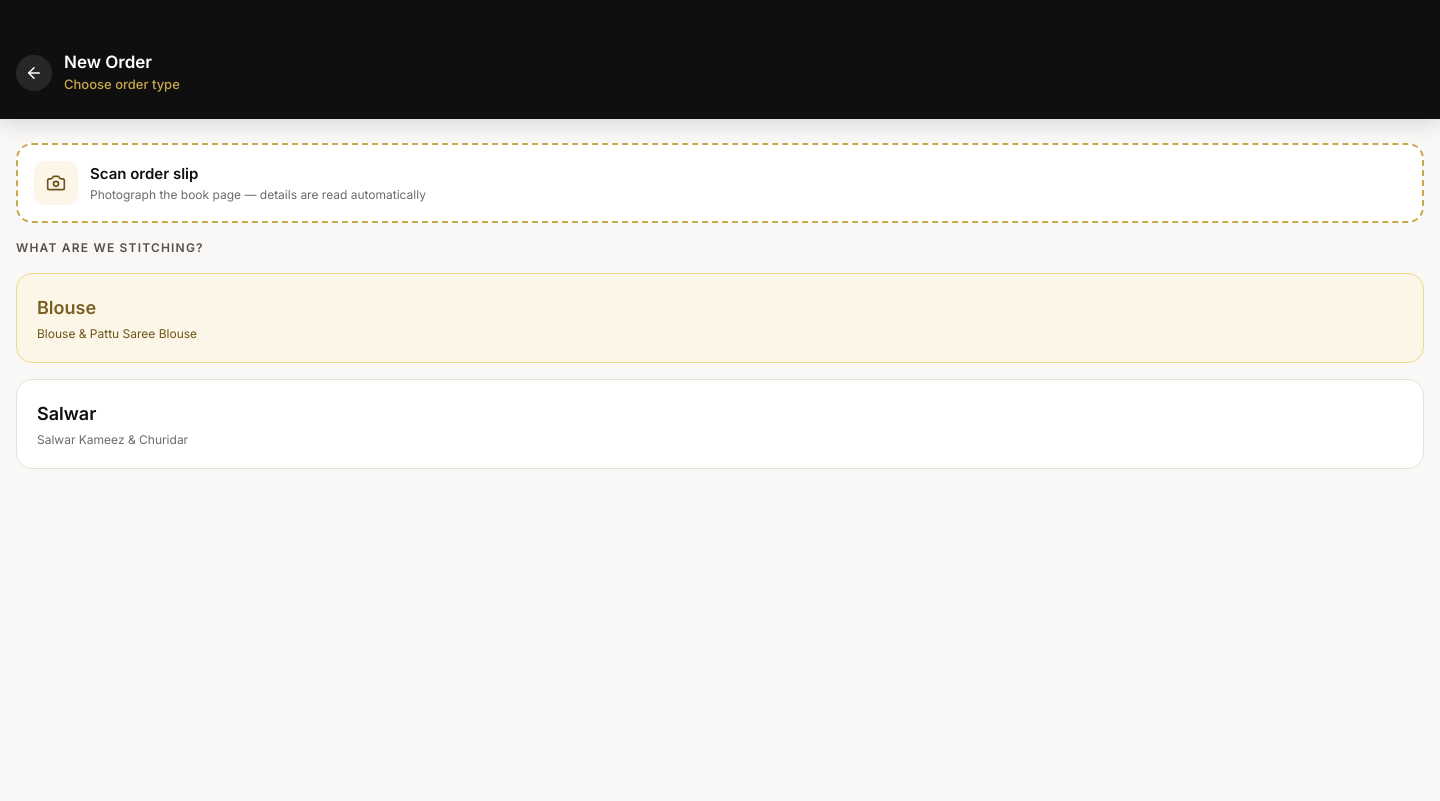
NewOrderWizard › switches to the shop fabric picker and computes fabric cost
This screenshot has width=1440, height=801.
Click the text "Blouse" at (67, 307), box x1=37 y1=297 x2=96 y2=318
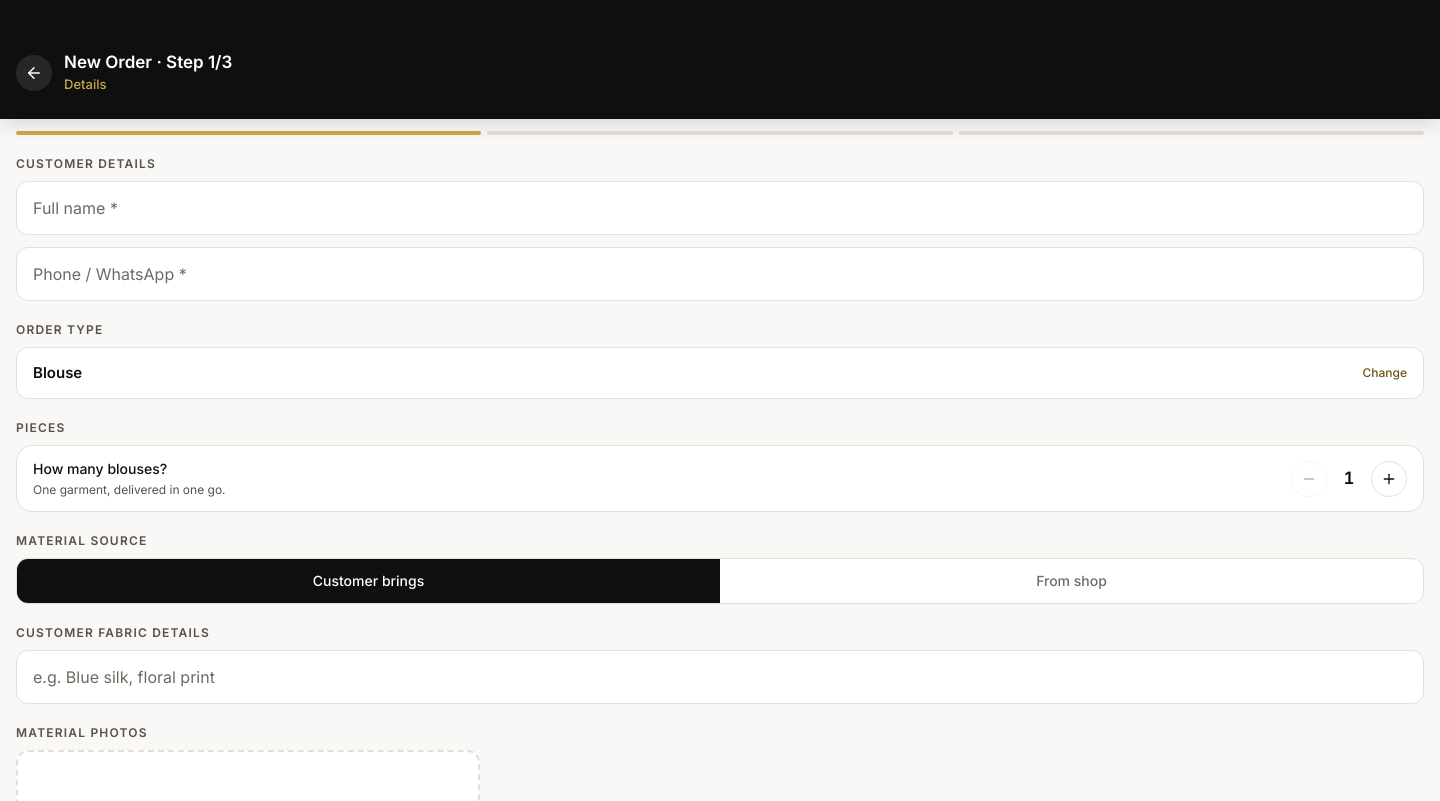
Click the button "From shop" at (1072, 581), box x1=720 y1=559 x2=1423 y2=603
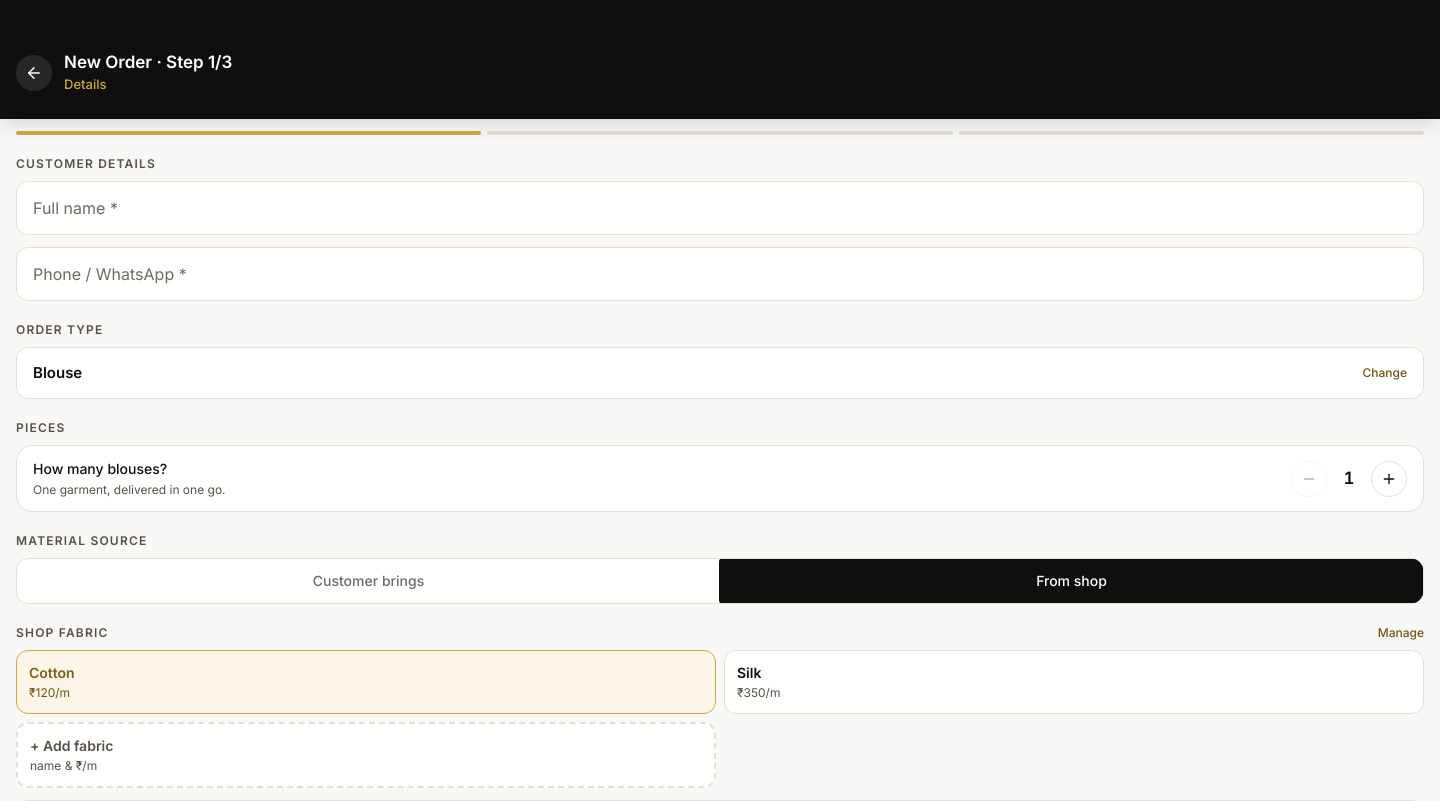
Result: the text "Shop fabric" is shown at x1=16 y1=624 x2=108 y2=642
Click the text "Silk" at (749, 673), box x1=737 y1=664 x2=761 y2=681
(page scrolled)
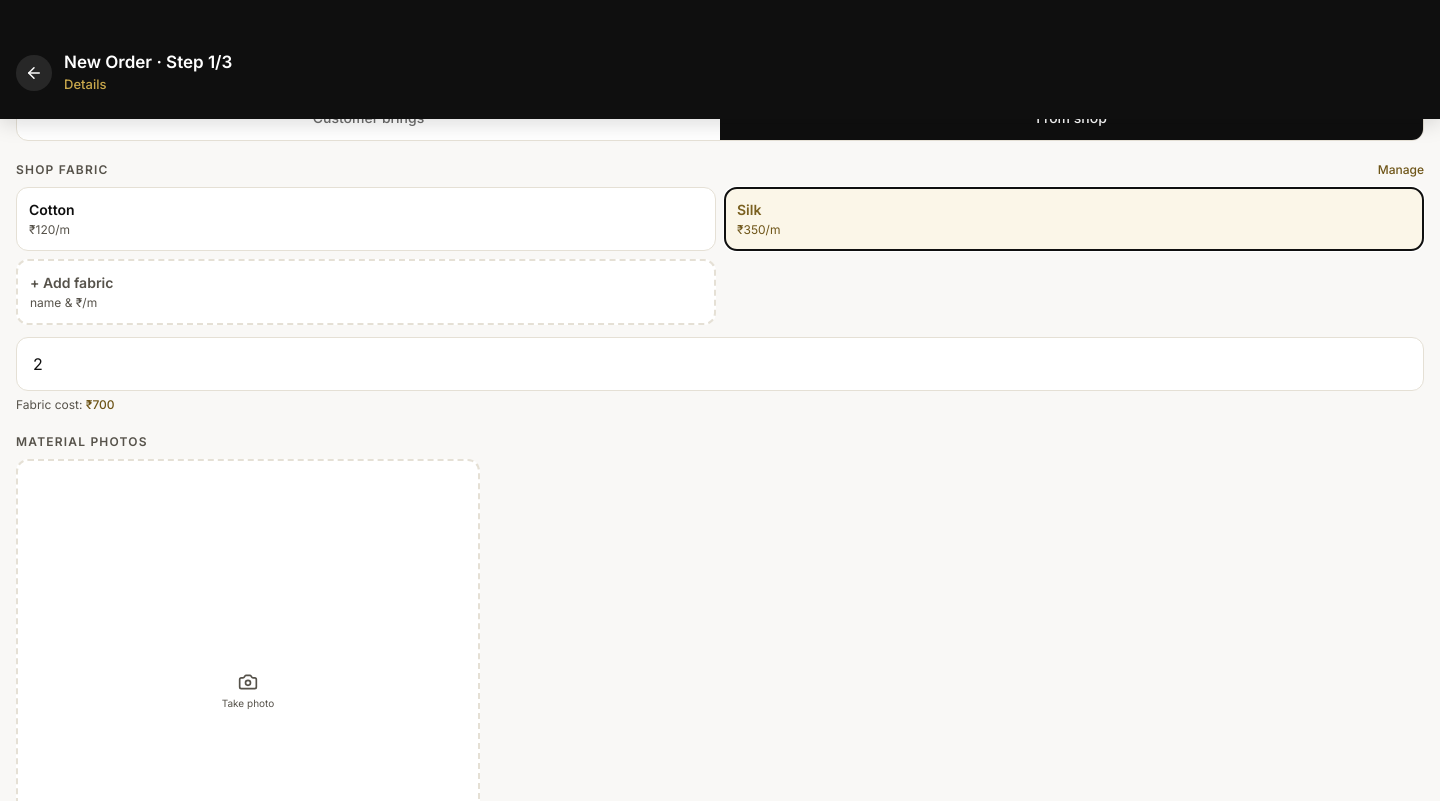
Result: the text "Fabric cost: ₹700" is shown at x1=16 y1=397 x2=115 y2=412
